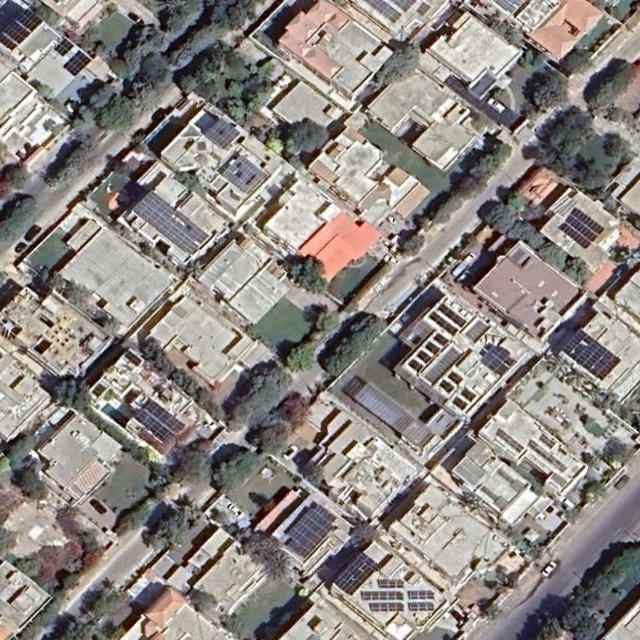solar panel: (132, 189, 210, 258), (279, 498, 337, 559), (563, 328, 622, 383), (133, 398, 185, 446), (222, 153, 268, 198), (0, 5, 44, 52), (475, 336, 518, 379), (526, 439, 568, 475), (204, 115, 241, 152), (362, 0, 404, 25), (558, 221, 592, 251), (570, 207, 605, 236), (565, 214, 598, 243), (495, 427, 525, 454), (64, 50, 91, 77), (429, 311, 458, 336), (438, 303, 467, 328), (360, 590, 403, 601), (55, 37, 74, 57), (391, 0, 418, 14), (370, 603, 404, 612), (408, 601, 434, 612), (539, 433, 555, 450), (447, 370, 464, 386), (439, 379, 455, 394), (433, 332, 449, 347), (408, 591, 433, 600), (408, 358, 424, 372), (416, 350, 432, 364), (453, 397, 468, 411), (461, 388, 476, 402), (425, 341, 440, 355), (379, 580, 404, 588)
